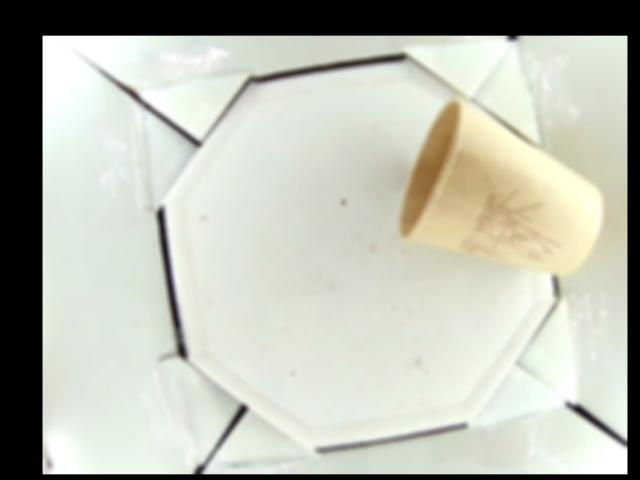Cup: (398, 99, 601, 276)
